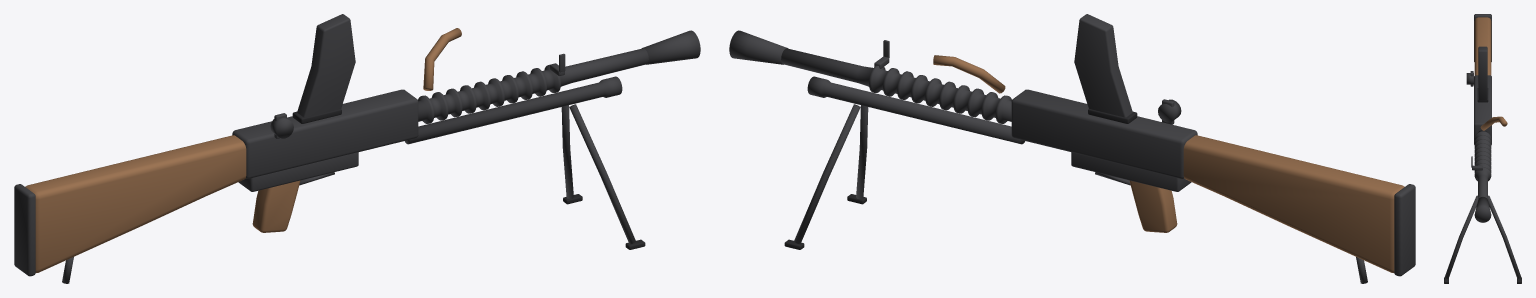
Rendered from SM_Bren.glb.
3 views of the same model, side by side, from view 1: azimuth 30°, elevation 25°; view 2: azimuth 150°, elevation 25°; view 3: azimuth 270°, elevation 25° (orthographic). The views are drawn at different scales.
Visible parts, largest first — view 1: SM_Bren; view 2: SM_Bren; view 3: SM_Bren.
Part boxes in pixels (x1,y1,x2,y2): SM_Bren: [14, 14, 700, 283]; SM_Bren: [729, 14, 1415, 283]; SM_Bren: [1444, 14, 1521, 283].
Size of the model in its own units: 1.24 by 0.4784 by 0.214.
